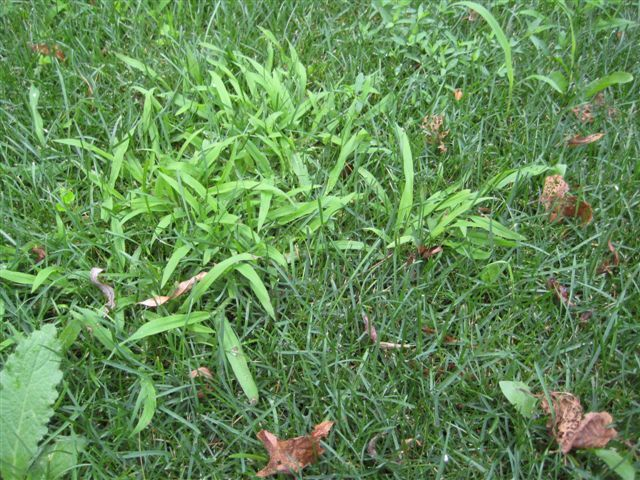crabgrass: (78, 49, 470, 287)
